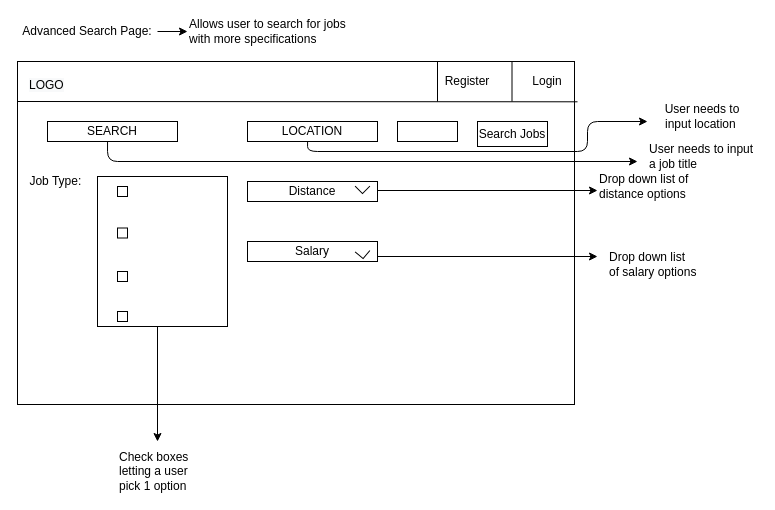
Some shapes in this 775 by 510 pixel diagram are drawn without their labels. Each missing label, with the centre of its shape:
Clear: pixel 427 131
Full Time Part Time Temporary Permanent: pixel 162 251
